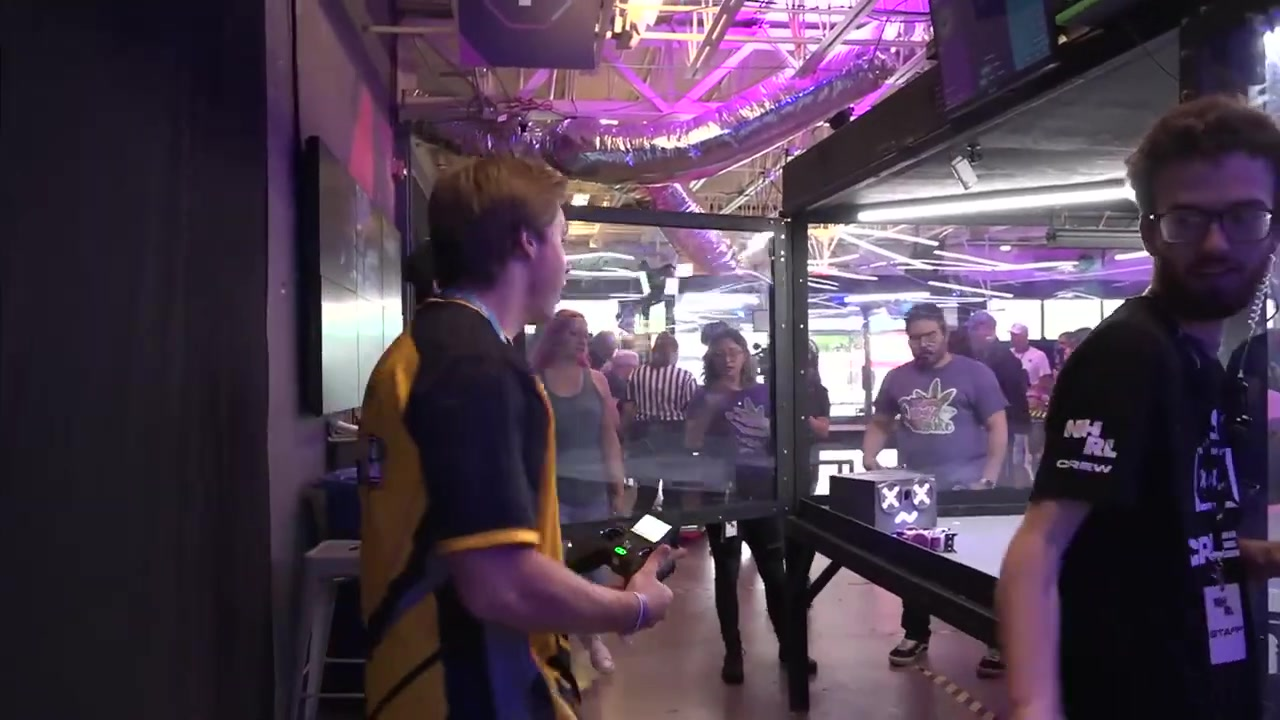combatbot: (895, 527, 957, 554)
housebot: (828, 467, 940, 530)
